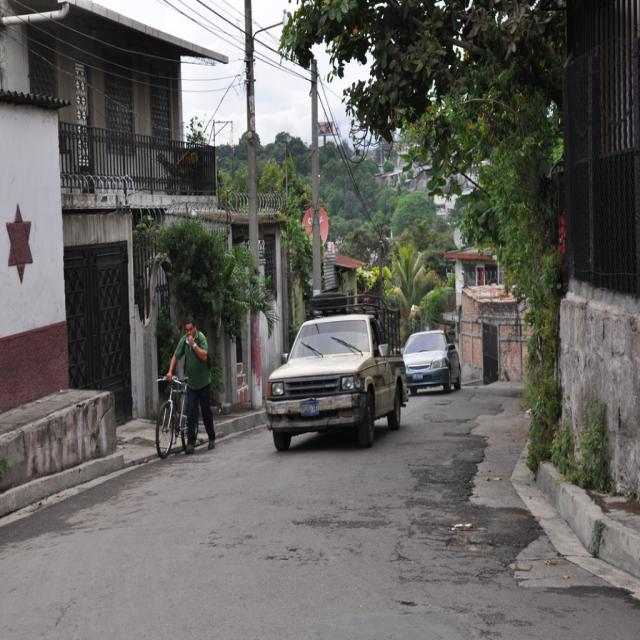car: (402, 329, 453, 405)
